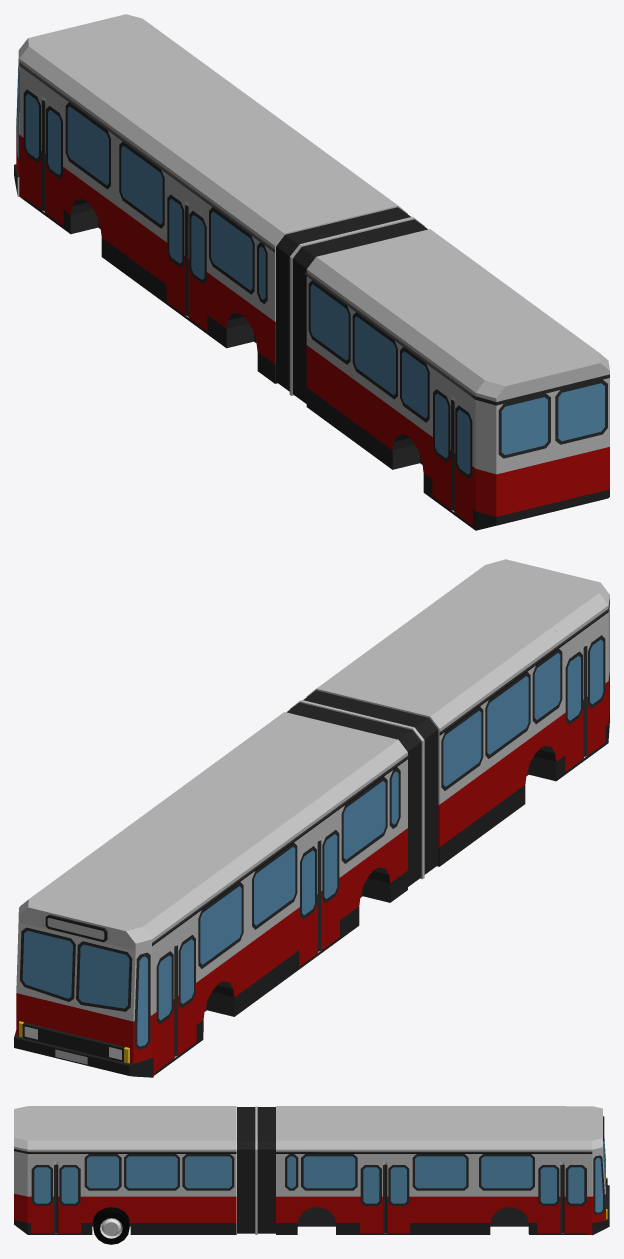
Rendered from vehicles.fbx.
3 renders of one model, top to bottom at view 1: azimuth 30°, elevation 25°; view 2: azimuth 150°, elevation 25°; view 3: azimuth 270°, elevation 25°, orthographic. The views are drawn at different scales.
Parts seen in each view (by area): view 1: bus, bus_trailer, bus_vestibule, bus_door, bus_door.002, bus_door.001; view 2: bus, bus_trailer, bus_vestibule, bus_door, bus_door.002, bus_door.001; view 3: bus, bus_trailer, bus_vestibule, bus_door.001, bus_door, bus_door.002, bus_wheel.
Boxes of the visible parts, bbox=[...] form: bus: bbox=[14, 14, 407, 383]; bus_trailer: bbox=[305, 229, 609, 530]; bus_vestibule: bbox=[276, 207, 427, 403]; bus_door: bbox=[166, 187, 207, 331]; bus_door.002: bbox=[432, 382, 472, 525]; bus_door.001: bbox=[23, 82, 63, 225]; bus: bbox=[14, 712, 409, 1077]; bus_trailer: bbox=[306, 559, 609, 866]; bus_vestibule: bbox=[287, 690, 438, 886]; bus_door: bbox=[299, 822, 339, 966]; bus_door.002: bbox=[565, 628, 605, 771]; bus_door.001: bbox=[156, 927, 196, 1071]; bus: bbox=[276, 1106, 609, 1235]; bus_trailer: bbox=[14, 1106, 236, 1234]; bus_vestibule: bbox=[237, 1106, 275, 1234]; bus_door.001: bbox=[537, 1162, 587, 1233]; bus_door: bbox=[360, 1162, 410, 1233]; bus_door.002: bbox=[31, 1162, 81, 1233]; bus_wheel: bbox=[93, 1207, 129, 1244].
Size of the model in its own units: 254 by 289 by 1540.
